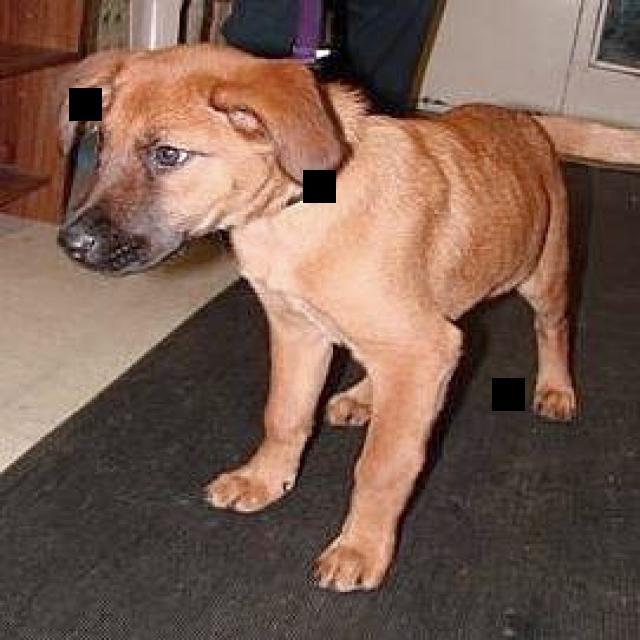puppy-dog: (54, 41, 640, 596)
